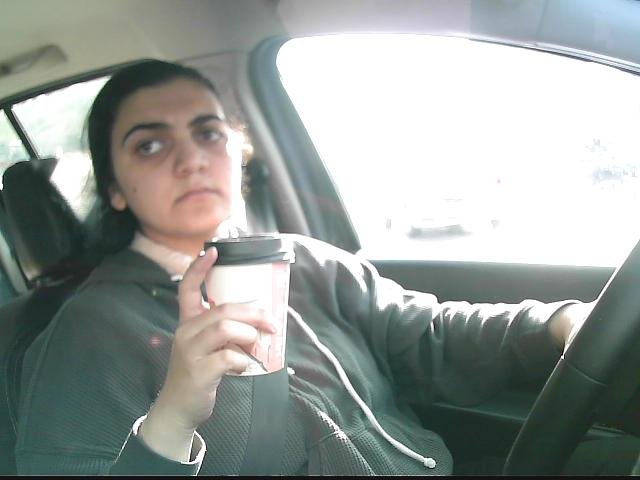Drinking: (205, 228, 299, 375)
